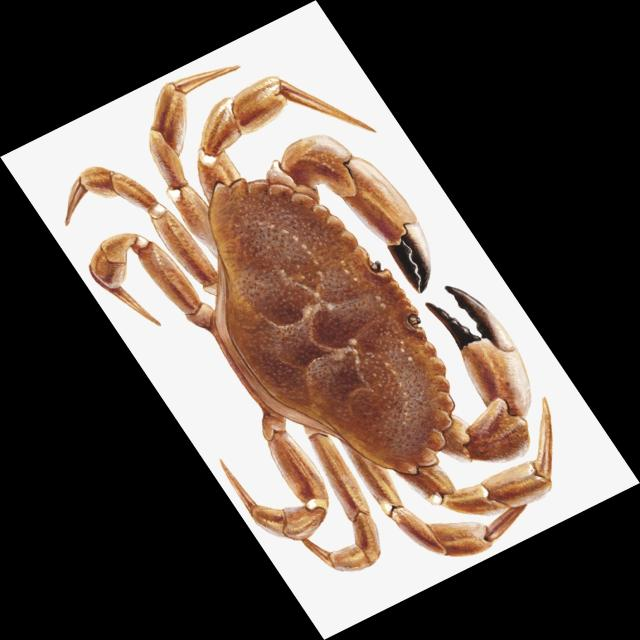Native Jonah crab: (65, 67, 552, 571)
